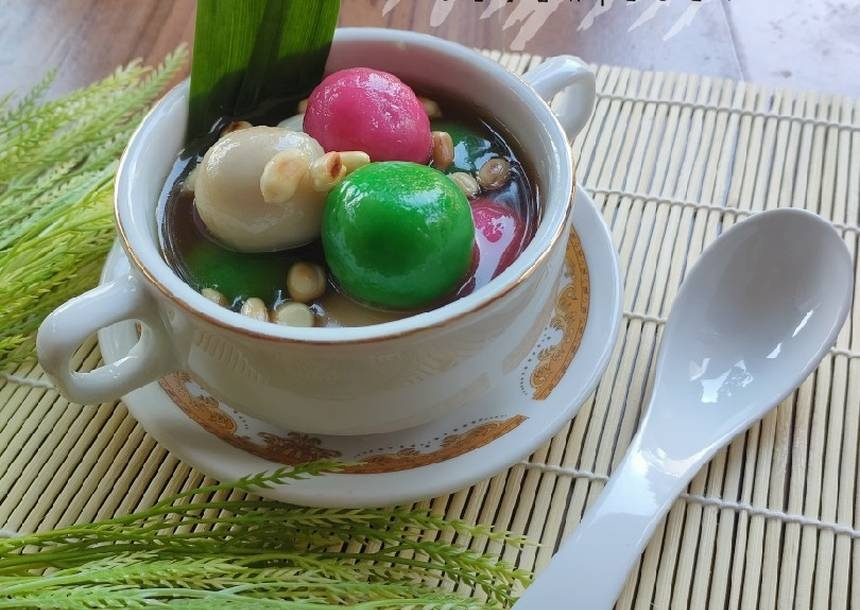ronde: (154, 64, 530, 327)
